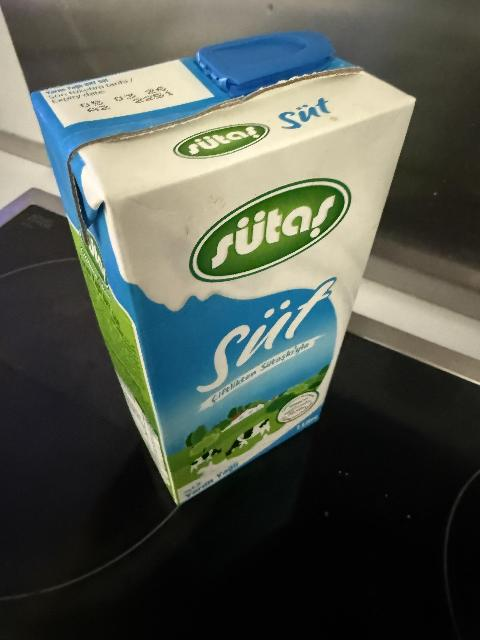Kagit: (65, 29, 424, 510)
Plastik: (203, 29, 335, 79)
